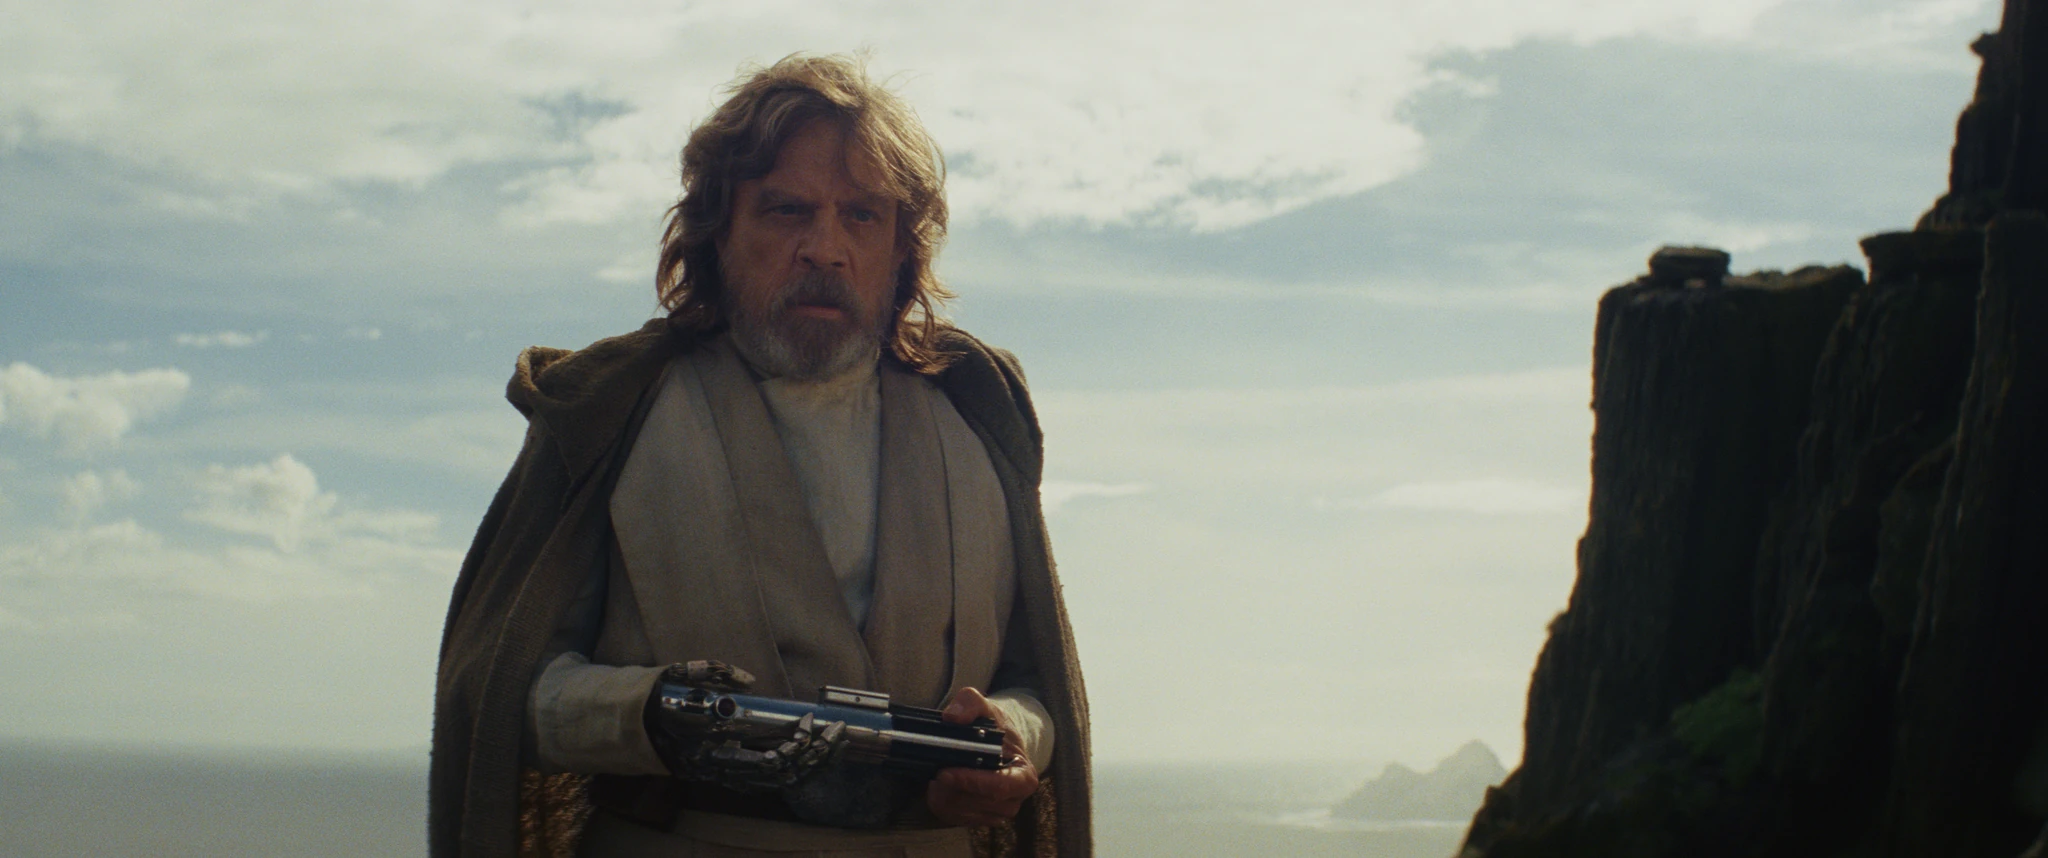Dalek: (641, 666, 1016, 797)
